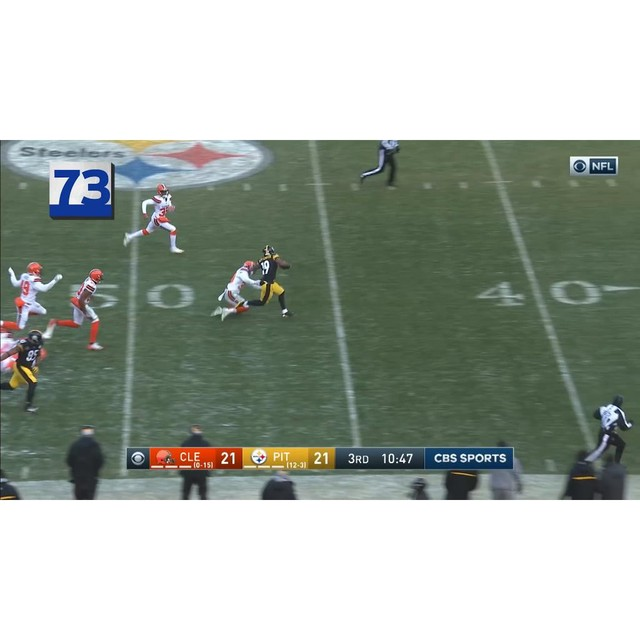american-football-player: (47, 269, 109, 350), (122, 182, 184, 252), (6, 262, 62, 333), (3, 327, 49, 413), (245, 246, 293, 320), (210, 261, 260, 321)
referee: (560, 391, 635, 494), (360, 140, 402, 190)
